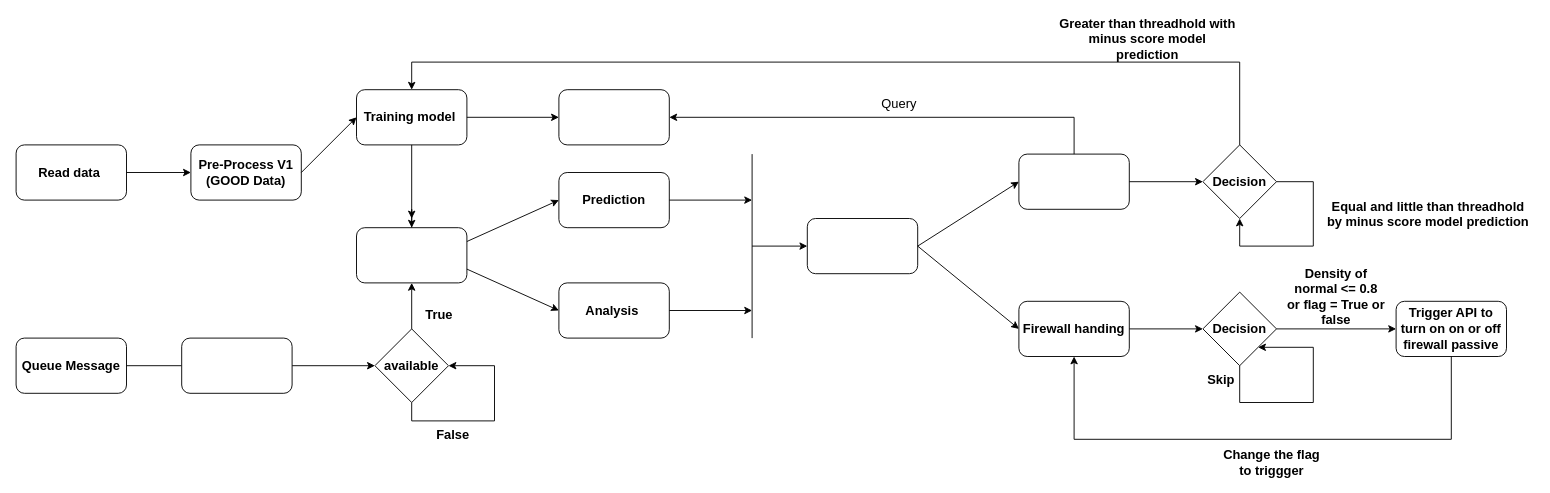
Image size: 1550x493. Some labels were removed from this diagram. The centre of each missing label's shape, as x and y in pixels:
Calculation Score Model: pixel 613 117
Post-Process: pixel 862 246
Pre-Process V2 (Each Log): pixel 236 365
Predict Model: pixel 411 255
Retrain: pixel 1073 181
